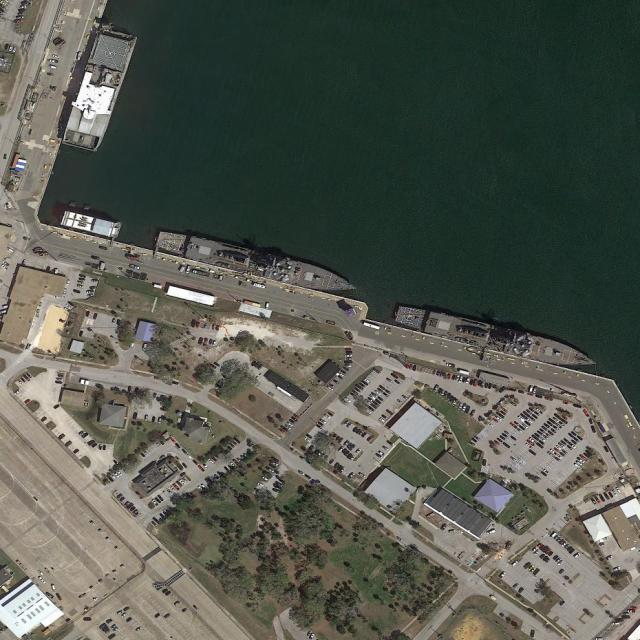Auxiliary Ships: (59, 21, 139, 156)
Destroyer: (154, 228, 361, 298), (392, 304, 600, 372)
